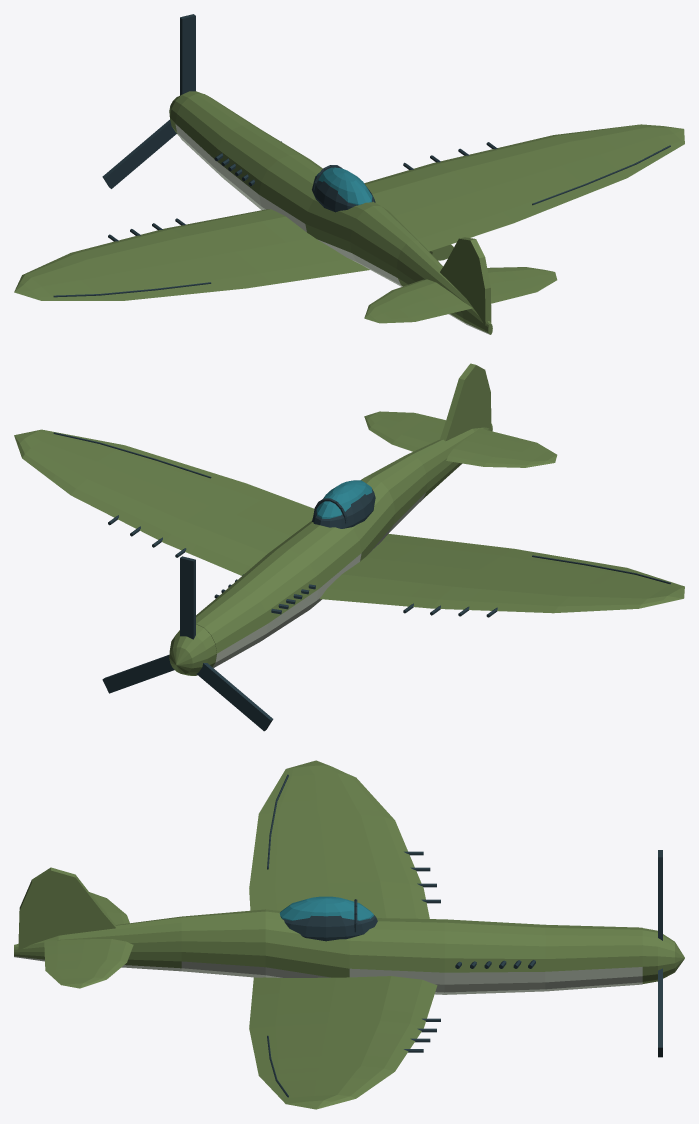
Rendered from archive-spitfire-ia.glb.
3 views of the same model, one above another, from view 1: azimuth 30°, elevation 25°; view 2: azimuth 150°, elevation 25°; view 3: azimuth 270°, elevation 25° (orthographic). The views are drawn at different scales.
Parts seen in each view (by area): view 1: archive-spitfire-ia-wing_0_1.003-geometry, archive-spitfire-ia-wing_0_-1.003-geometry, archive-spitfire-ia-fuselage.003-geometry, archive-spitfire-ia-tailplane.006-geometry, archive-spitfire-ia-propeller_00.003-geometry, archive-spitfire-ia-archive-spitfire-ia-geometry, archive-spitfire-ia-vertical_tail.003-geometry, archive-spitfire-ia-tailplane.007-geometry; view 2: archive-spitfire-ia-wing_0_1.003-geometry, archive-spitfire-ia-wing_0_-1.003-geometry, archive-spitfire-ia-fuselage.003-geometry, archive-spitfire-ia-propeller_00.003-geometry, archive-spitfire-ia-archive-spitfire-ia-geometry, archive-spitfire-ia-tailplane.006-geometry, archive-spitfire-ia-vertical_tail.003-geometry, archive-spitfire-ia-tailplane.007-geometry, archive-spitfire-ia-spinner-geometry; view 3: archive-spitfire-ia-fuselage.003-geometry, archive-spitfire-ia-wing_0_-1.003-geometry, archive-spitfire-ia-wing_0_1.003-geometry, archive-spitfire-ia-vertical_tail.003-geometry, archive-spitfire-ia-archive-spitfire-ia-geometry, archive-spitfire-ia-tailplane.007-geometry, archive-spitfire-ia-spinner-geometry, archive-spitfire-ia-propeller_00.003-geometry.
Boxes of the visible parts, box(x1,y1,x2,y2) form: archive-spitfire-ia-wing_0_1.003-geometry: box(364, 124, 684, 251); archive-spitfire-ia-wing_0_-1.003-geometry: box(14, 209, 369, 300); archive-spitfire-ia-fuselage.003-geometry: box(175, 94, 492, 334); archive-spitfire-ia-tailplane.006-geometry: box(364, 279, 472, 323); archive-spitfire-ia-propeller_00.003-geometry: box(102, 14, 195, 188); archive-spitfire-ia-archive-spitfire-ia-geometry: box(108, 141, 497, 241); archive-spitfire-ia-vertical_tail.003-geometry: box(440, 237, 491, 325); archive-spitfire-ia-tailplane.007-geometry: box(487, 267, 557, 303); archive-spitfire-ia-wing_0_1.003-geometry: box(14, 429, 314, 575); archive-spitfire-ia-wing_0_-1.003-geometry: box(319, 533, 684, 613); archive-spitfire-ia-fuselage.003-geometry: box(196, 423, 492, 667); archive-spitfire-ia-propeller_00.003-geometry: box(102, 556, 273, 731); archive-spitfire-ia-archive-spitfire-ia-geometry: box(108, 480, 497, 617); archive-spitfire-ia-tailplane.006-geometry: box(446, 428, 557, 467); archive-spitfire-ia-vertical_tail.003-geometry: box(440, 363, 491, 441); archive-spitfire-ia-tailplane.007-geometry: box(364, 411, 445, 451); archive-spitfire-ia-spinner-geometry: box(169, 624, 216, 675); archive-spitfire-ia-fuselage.003-geometry: box(14, 909, 642, 994); archive-spitfire-ia-wing_0_-1.003-geometry: box(249, 760, 429, 918); archive-spitfire-ia-wing_0_1.003-geometry: box(249, 976, 437, 1109); archive-spitfire-ia-vertical_tail.003-geometry: box(18, 867, 115, 949); archive-spitfire-ia-archive-spitfire-ia-geometry: box(279, 851, 535, 1052); archive-spitfire-ia-tailplane.007-geometry: box(44, 939, 133, 988); archive-spitfire-ia-spinner-geometry: box(642, 928, 684, 983); archive-spitfire-ia-propeller_00.003-geometry: box(658, 850, 662, 1057).
Size of the model in its own units: 7.39 by 1.61 by 6.
